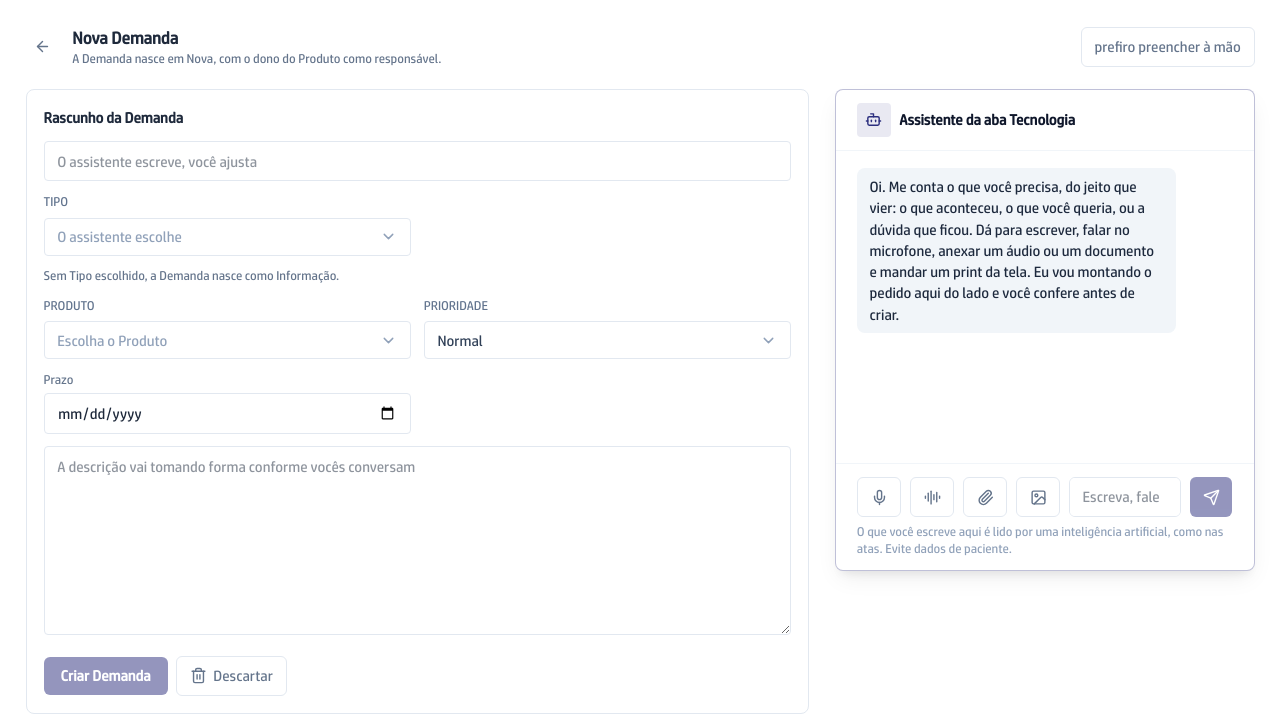
Test: Depois que a Demanda nasce › 201 com corpo fora do contrato tira o formulário da tela, em vez de reabilitar o botão
Click the button "prefiro preencher à mão".
click(1168, 47)  # box [1081,27,1254,67]
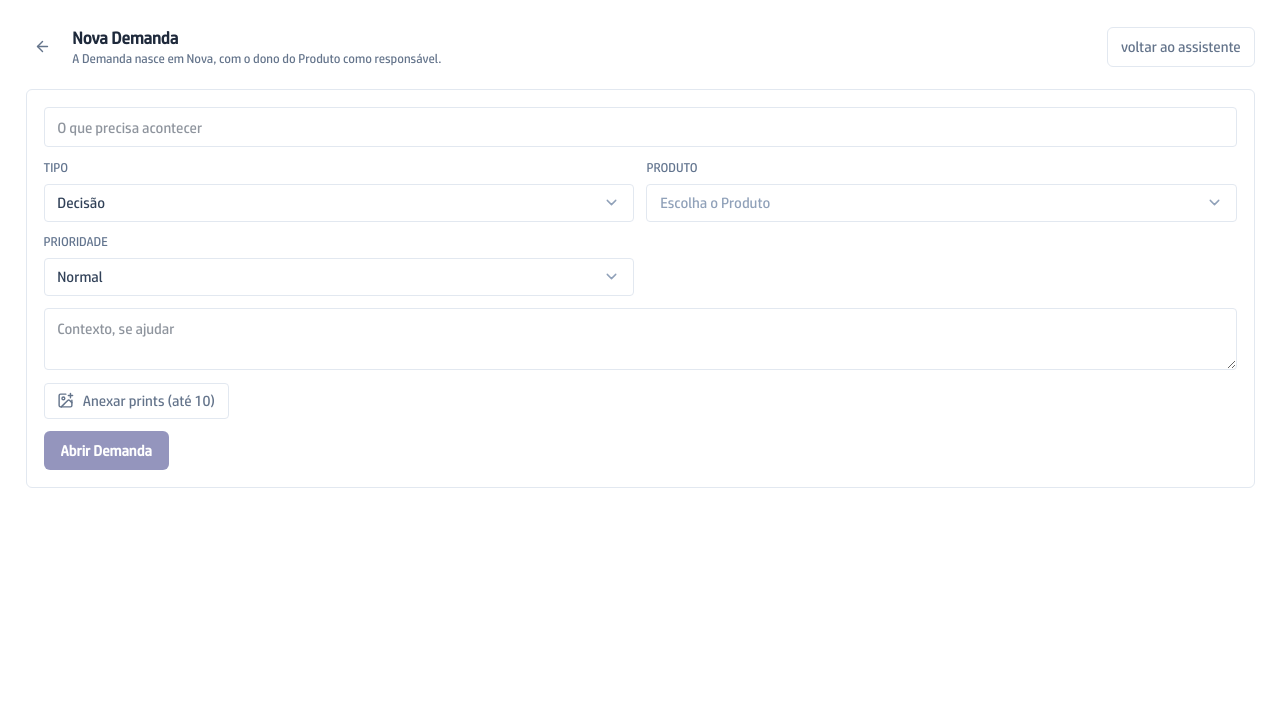
Now the button "Abrir Demanda" is shown, box [44,432,169,470]
Type "Encerrar conversas" into the field named "Título".
click(640, 127); type("Encerrar conversas")  # box [44,107,1236,148]
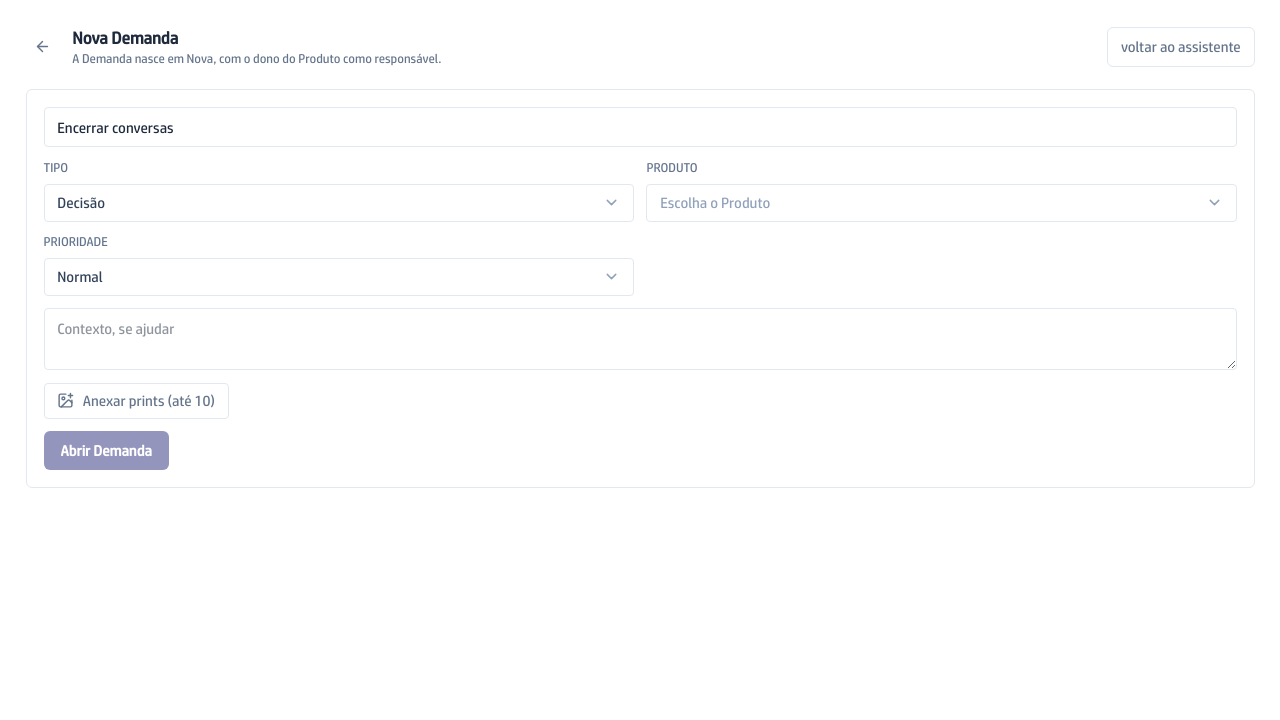
Click the dropdown labelled "Produto".
click(715, 202)  # box [646,184,1236,222]
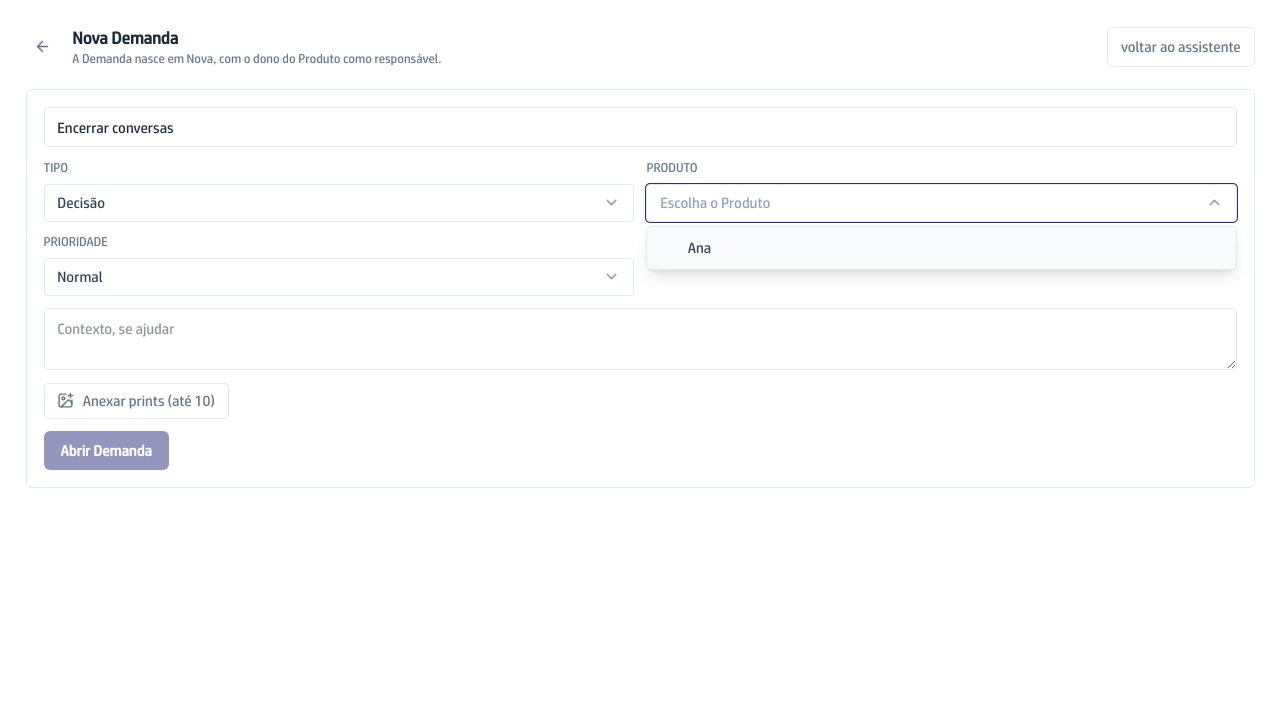
Click the option "Ana".
click(699, 248)  # box [647,227,1236,269]
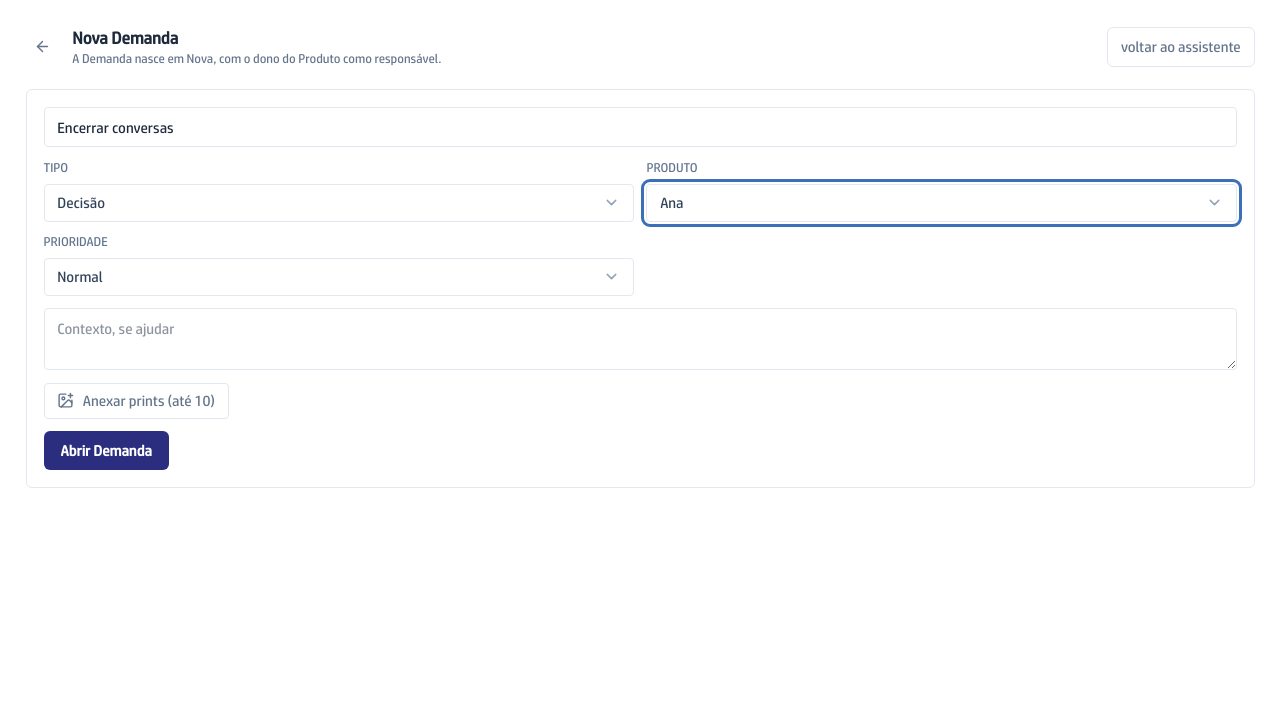
Click the button "Abrir Demanda".
click(106, 451)  # box [44,432,169,470]
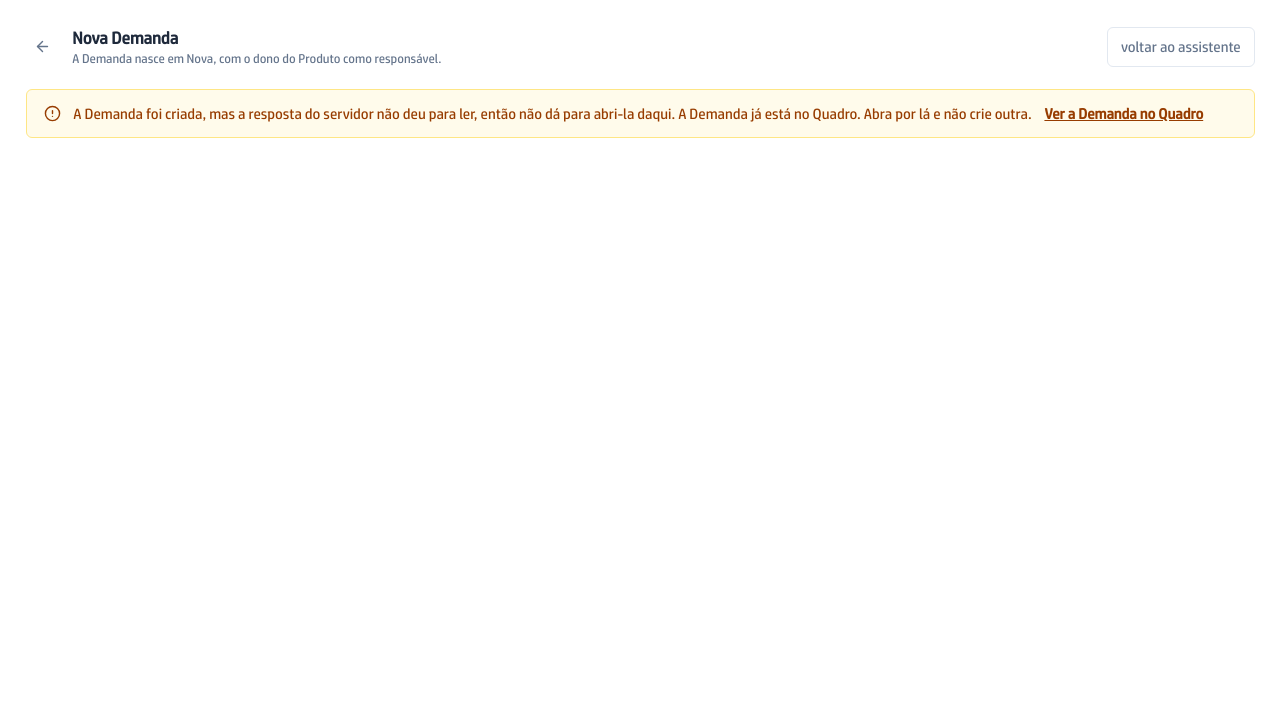
Now the message shows "A Demanda foi criada", box [73,105,1032,122]
Now the button "Abrir Demanda" is gone
